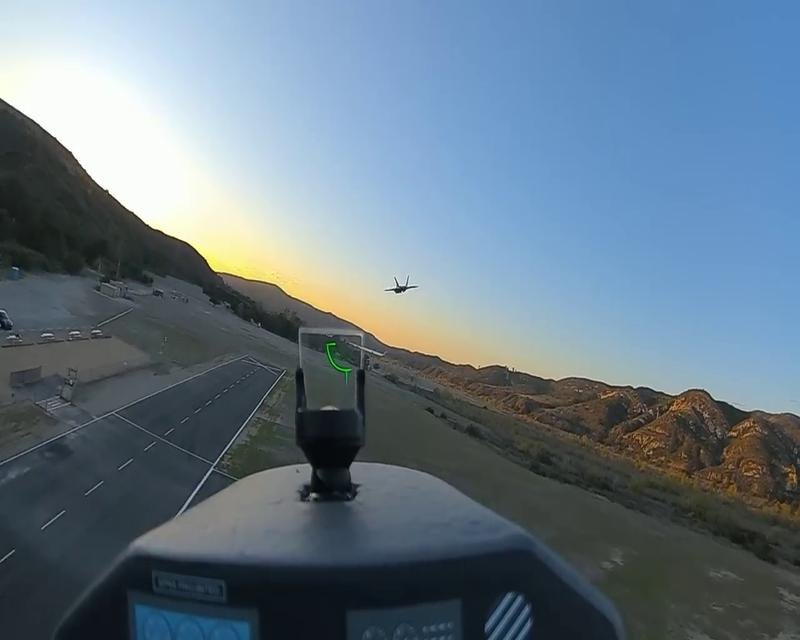UAV: (384, 276, 419, 294)
